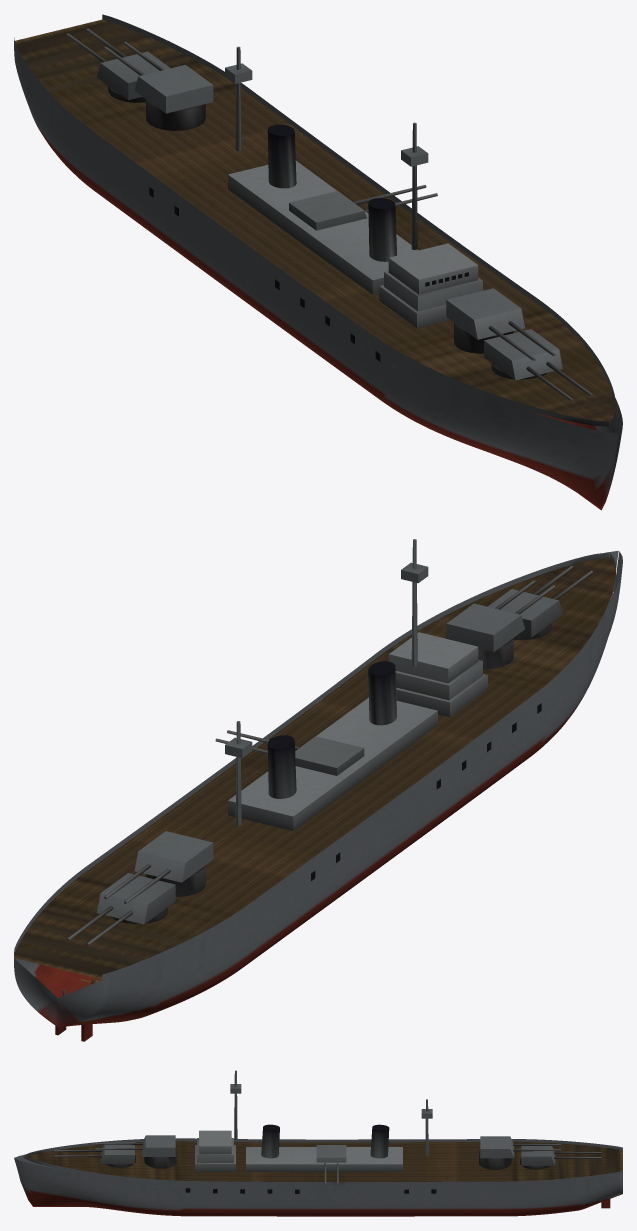
The model's file is model_built.glb.
3 views of the same model, one above another, from view 1: azimuth 30°, elevation 25°; view 2: azimuth 150°, elevation 25°; view 3: azimuth 270°, elevation 25° (orthographic). The views are drawn at different scales.
Visible parts, largest first — view 1: main; view 2: main; view 3: main.
Boxes of the visible parts, x1,y1,x2,y2 form: main: (14, 14, 622, 510); main: (14, 539, 622, 1041); main: (14, 1070, 622, 1216).
Bounding box in the file's own units: 34.05 × 43.95 × 178.
2 materials, 2 textured.
